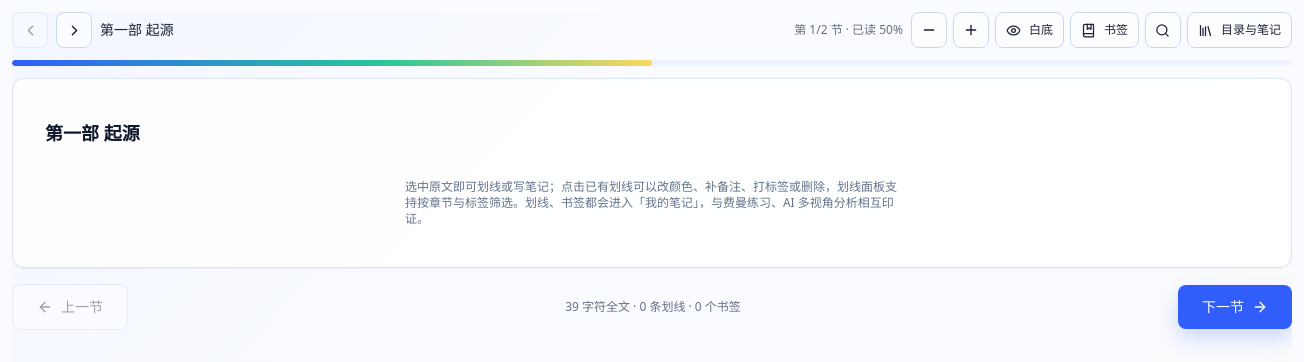
Test: BookReader table of contents › indents volumes, chapters and subheadings by level instead of padding the list with continuations
What coordinates should you click on to do the following:
click the button "目录与笔记"
I would click on:
 (1240, 30)
Its box is [1187,12,1292,48].
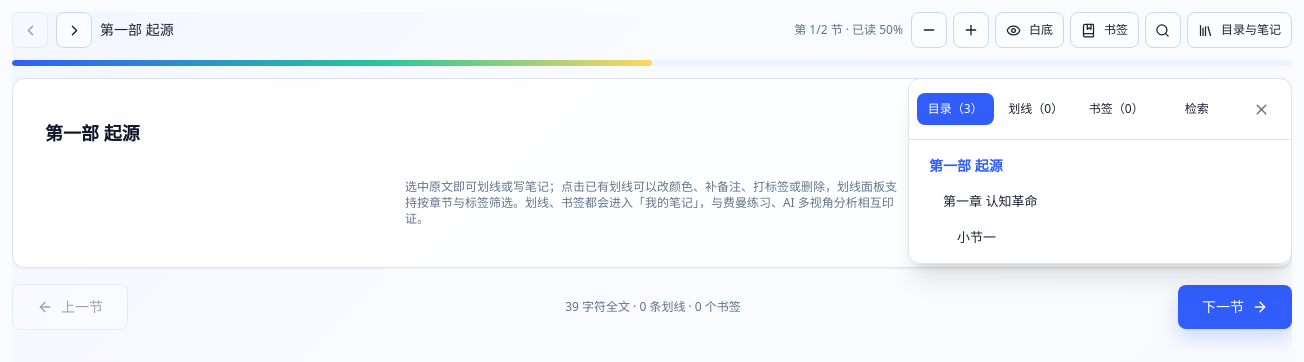
Expected: the button "目录（3）" is shown, [917,93,994,125]
